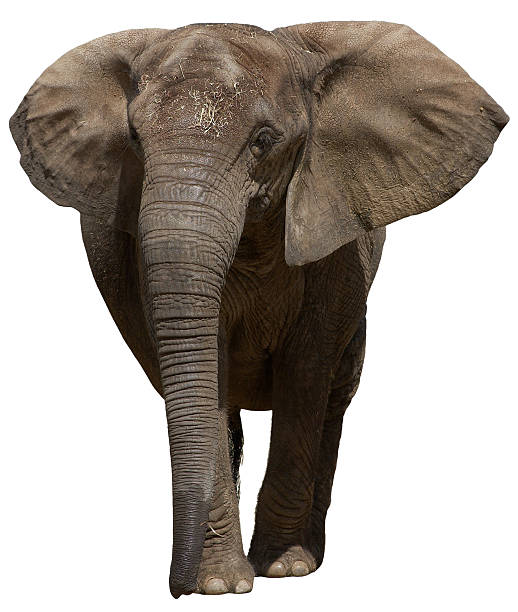africanelephant: (109, 36, 321, 301)
